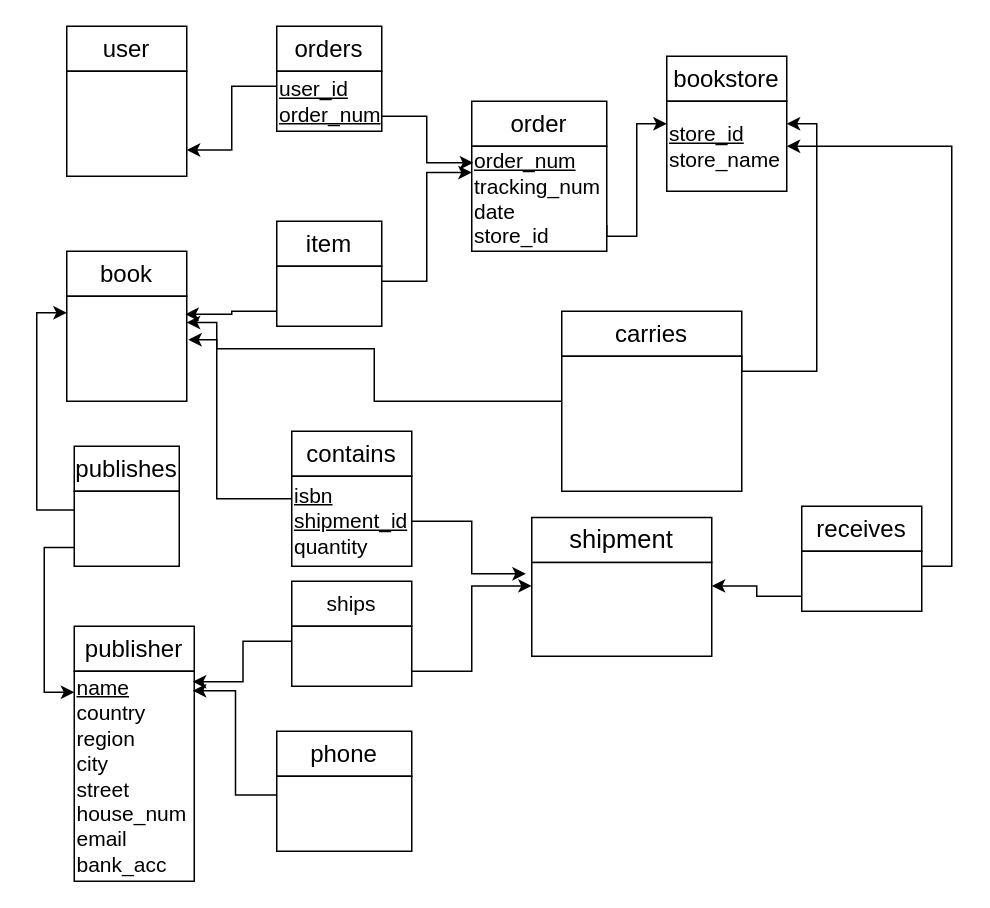
This 990x908 diagram has some shape labels left out. Each missing label, with the centre of its shape:
"isbn name genre page_num" belongs at pixel 126 348.
"isbn publisher" belongs at pixel 126 528.
"name phone_num" belongs at pixel 343 813.
"order_num isbn" belongs at pixel 328 295.
"pub_name shipment_id" belongs at pixel 351 655.
"shipment_id quantity cost" belongs at pixel 621 608.
"store_id isbn price quantity pub_cut" belongs at pixel 651 423.
"store_id shipment_id" belongs at pixel 861 580.
"username password user_id email" belongs at pixel 126 123.
